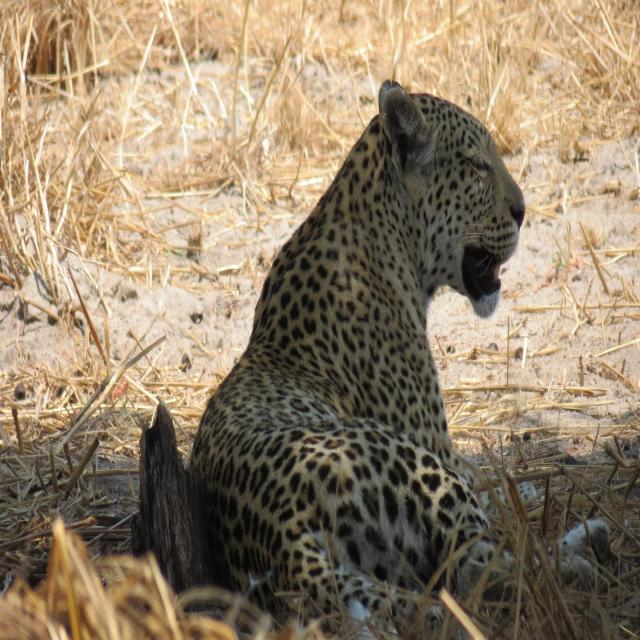Leopard: (184, 72, 636, 639)
